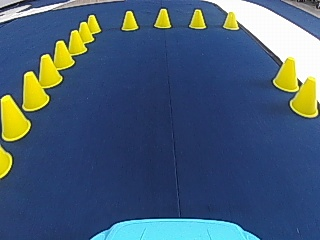cone: (0, 95, 31, 140), (289, 76, 317, 117), (21, 70, 48, 110), (271, 56, 299, 92), (37, 53, 62, 88), (52, 40, 74, 68), (68, 30, 87, 54), (121, 10, 139, 31), (0, 146, 12, 177), (154, 7, 171, 28), (189, 8, 206, 29), (77, 21, 93, 43), (86, 14, 101, 34), (223, 11, 238, 30)
